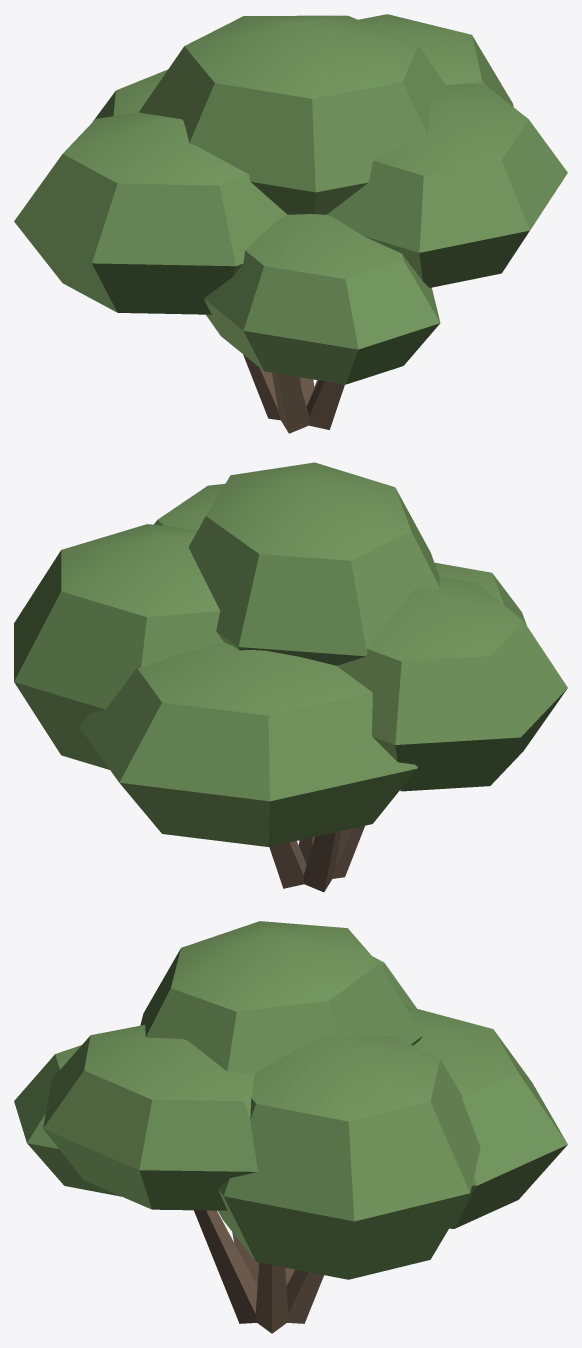
Rendered from bush.glb.
The picture shows the model from 3 angles, top to bottom: view 1: azimuth 30°, elevation 25°; view 2: azimuth 150°, elevation 25°; view 3: azimuth 270°, elevation 25°; orthographic projection. The views are drawn at different scales.
Visible parts, largest first — view 1: bush; view 2: bush; view 3: bush.
Part boxes in pixels (x1,y1,x2,y2): bush: [14, 14, 567, 433]; bush: [14, 462, 567, 892]; bush: [14, 921, 567, 1333].
Bounding box in the file's own units: 1.82 × 1.37 × 1.79.
